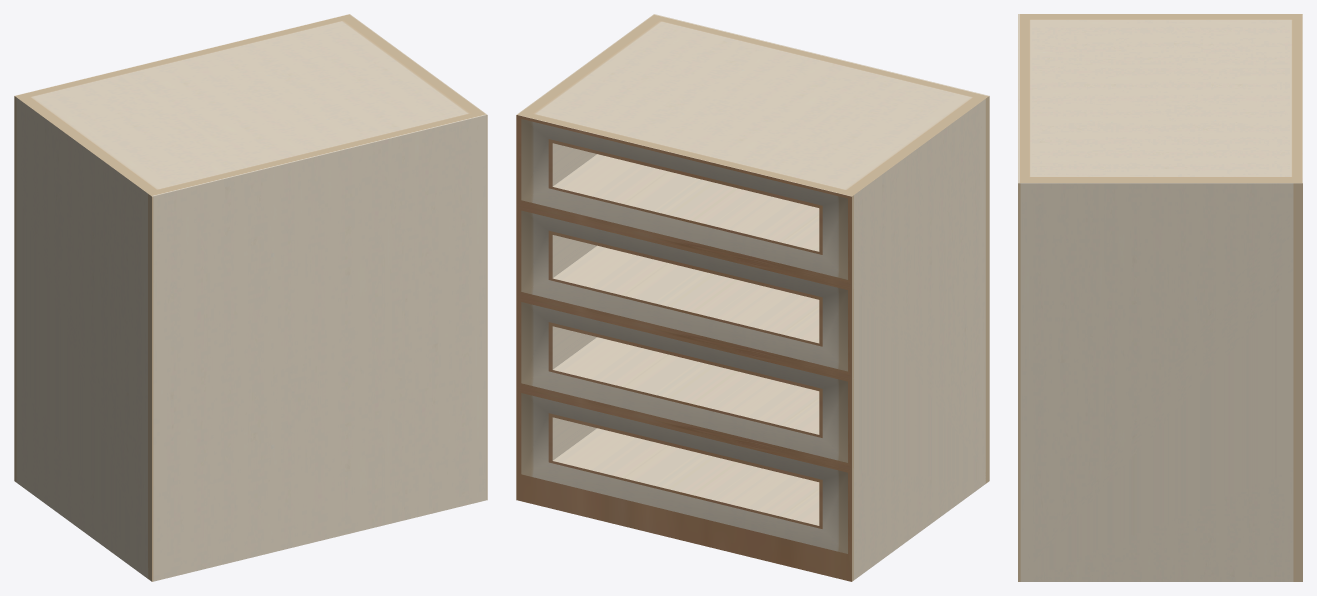
File: Countertop_Kitchen_Drawers_Open_Body.fbx
3 views of the same model, side by side, from view 1: azimuth 30°, elevation 25°; view 2: azimuth 150°, elevation 25°; view 3: azimuth 270°, elevation 25° (orthographic). The views are drawn at different scales.
Visible parts, largest first — view 1: Kitchen_Counter_Drawers3; view 2: Kitchen_Counter_Drawers3; view 3: Kitchen_Counter_Drawers3.
Part boxes in pixels (x1,y1,x2,y2): Kitchen_Counter_Drawers3: (14,14,487,581); Kitchen_Counter_Drawers3: (516,14,989,581); Kitchen_Counter_Drawers3: (1018,14,1302,581).
Size of the model in its own units: 80.81 by 88.69 by 57.46.
